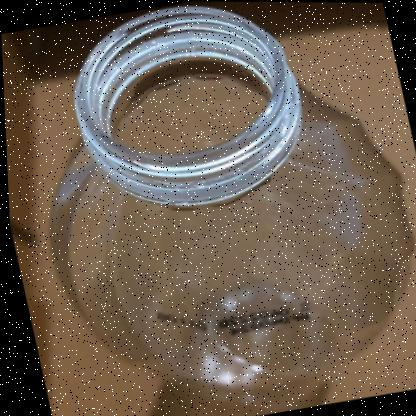open bottle: (1, 1, 416, 367)
